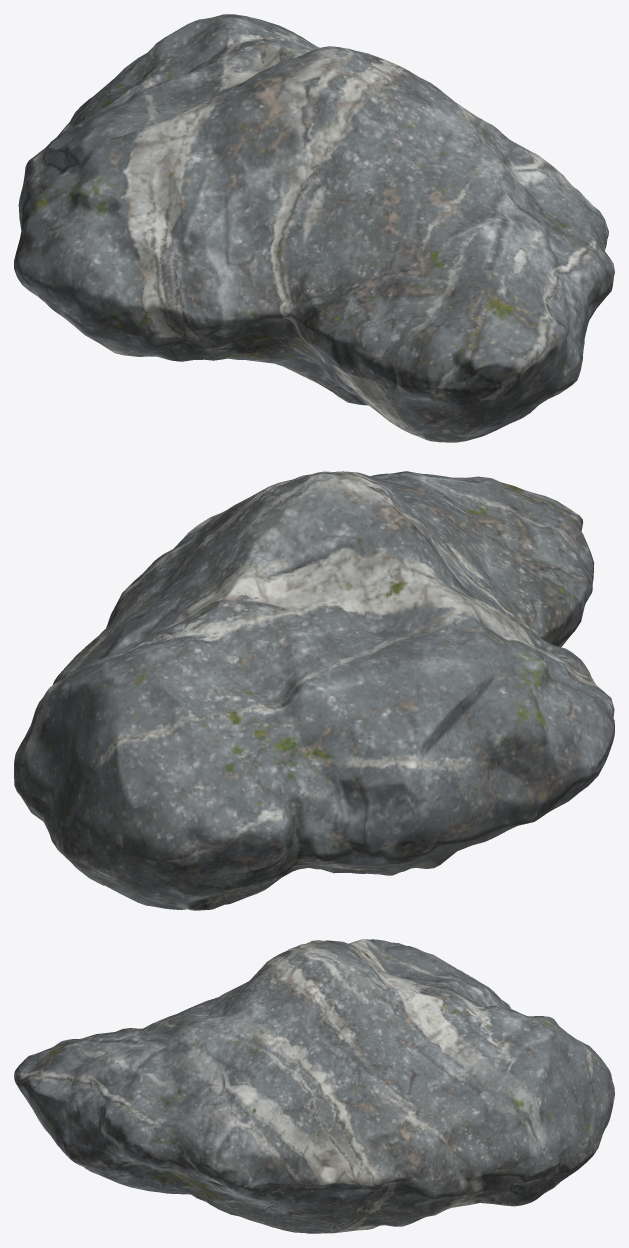
Rendered from SM_Rock_03.fbx.
3 renders of one model, top to bottom at view 1: azimuth 30°, elevation 25°; view 2: azimuth 150°, elevation 25°; view 3: azimuth 270°, elevation 25°, orthographic. The views are drawn at different scales.
Parts seen in each view (by area): view 1: SM_Rock_03_LOD0; view 2: SM_Rock_03_LOD0; view 3: SM_Rock_03_LOD0.
Boxes of the visible parts, box(x1,y1,x2,y2) form: SM_Rock_03_LOD0: box(14, 14, 614, 442); SM_Rock_03_LOD0: box(14, 471, 614, 910); SM_Rock_03_LOD0: box(14, 939, 614, 1233).
Size of the model in its own units: 104 by 144 by 68.95.
1 material, 1 textured.
